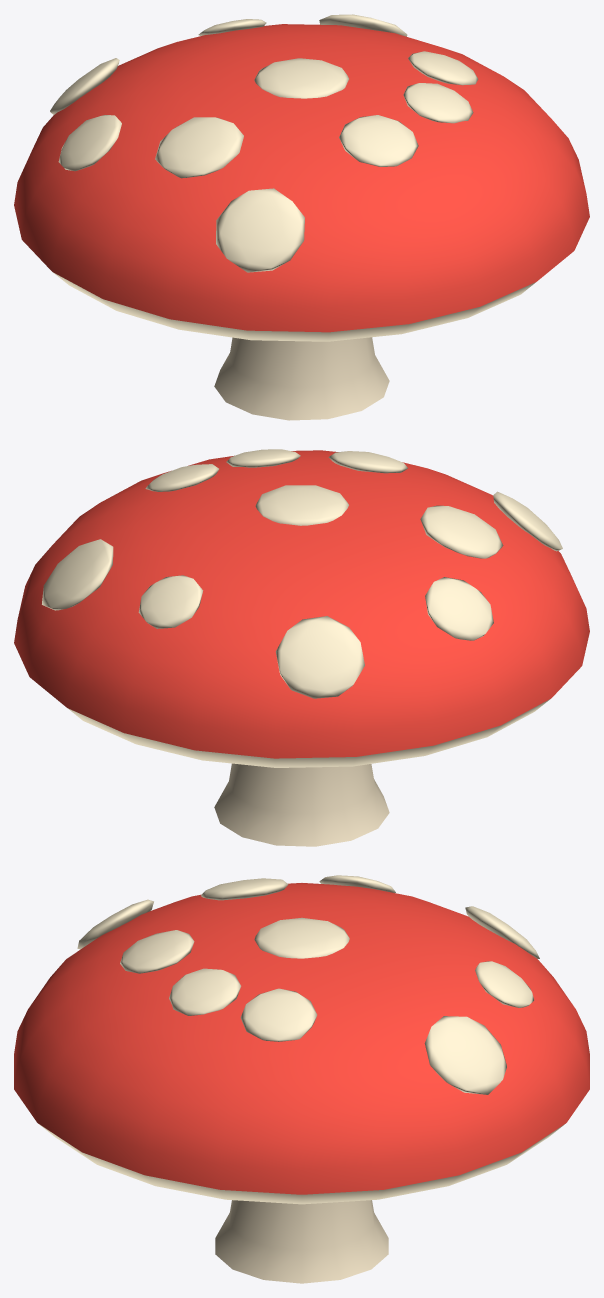
The model's file is mushroom.glb.
3 views of the same model, one above another, from view 1: azimuth 30°, elevation 25°; view 2: azimuth 150°, elevation 25°; view 3: azimuth 270°, elevation 25° (orthographic).
Visible parts, largest first — view 1: mushroom; view 2: mushroom; view 3: mushroom.
Boxes of the visible parts, x1,y1,x2,y2 form: mushroom: (14,14,589,420); mushroom: (14,449,589,846); mushroom: (14,875,589,1283).
Size of the model in its own units: 2.36 by 1.41 by 2.34.
